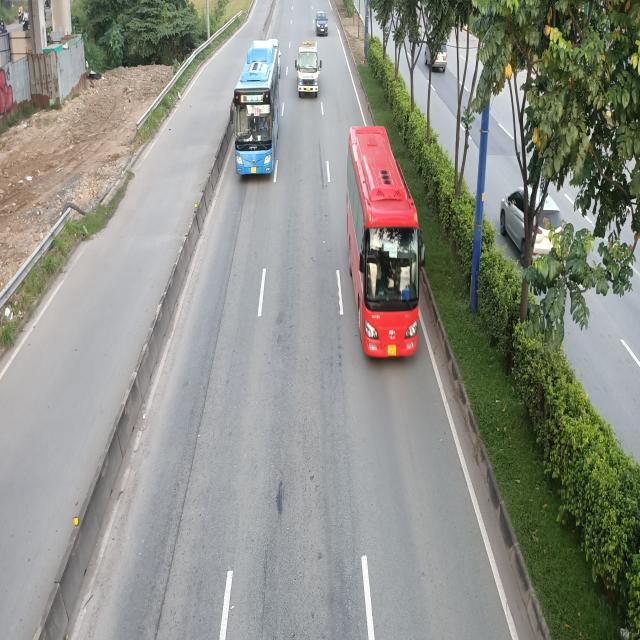coach: (350, 125, 430, 360), (232, 38, 284, 178)
truck: (294, 39, 320, 97)
